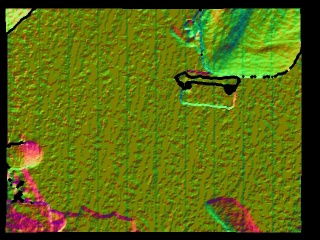station: (176, 68, 240, 109)
